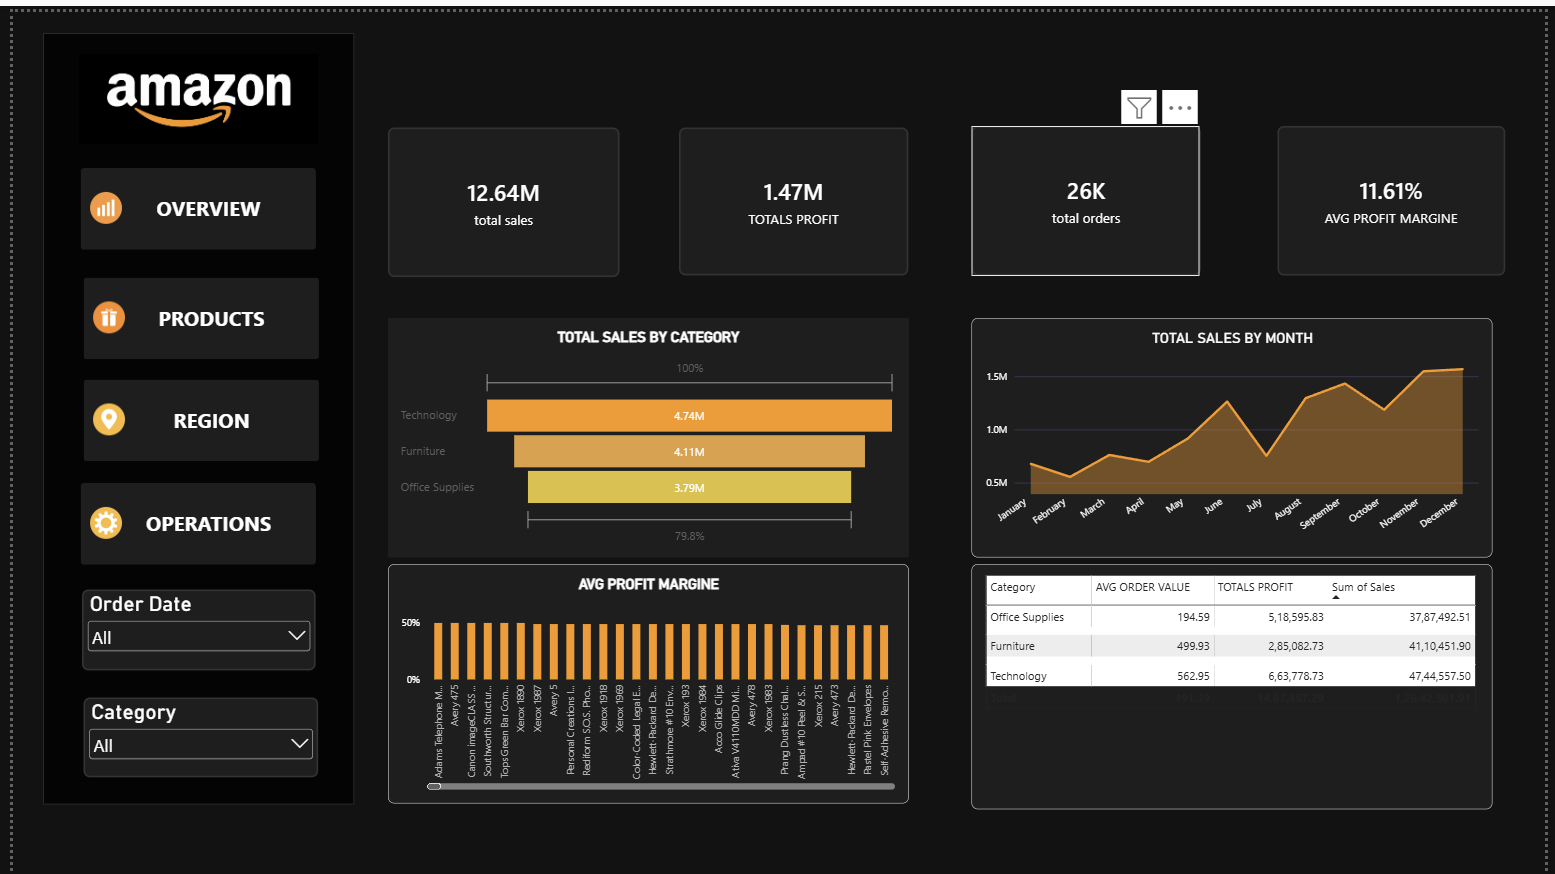

What the dashboard file says about the page in this screenshot:
{"tool":"powerbi","page":{"name":"PRODUCTS","canvas":[1920,1080],"ordinal":1},"visuals":[{"type":"card","fields":{"Values":["Orders.total sales"]},"box":[470,145,290,187.5],"z":0},{"type":"card","fields":{"Values":["Orders.total orders"]},"box":[1200,142.5,287.5,187.5],"z":1000},{"type":"card","fields":{"Values":["Orders.TOTALS PROFIT"]},"box":[835,145,287.5,185],"z":2000},{"type":"card","fields":{"Values":["Orders.AVG PROFIT MARGINE"]},"box":[1585,142.5,285,187.5],"z":3000},{"type":"funnel","title":"TOTAL SALES BY CATEGORY","fields":{"Category":["Orders.Category"],"Y":["Orders.total sales"]},"box":[470,382.5,652.5,300],"z":4000},{"type":"lineChart","title":"TOTAL SALES BY MONTH","fields":{"Category":["Orders.Order Date.Variation.Date Hierarchy.Month"],"Y":["Orders.total sales"]},"box":[1200,382.5,652.5,300],"z":5000},{"type":"lineClusteredColumnComboChart","title":"AVG PROFIT MARGINE","fields":{"Category":["Orders.Product Name"],"Y":["Orders.AVG PROFIT MARGINE"]},"box":[470,692.5,652.5,300],"z":6000},{"type":"tableEx","fields":{"Values":["Orders.Category","Orders.AVG ORDER VALUE","Orders.TOTALS PROFIT","Sum(Orders.Sales)"]},"box":[1200,692.5,652.5,307.5],"z":7000},{"type":"textbox","box":[5,100,290,188],"z":8000},{"type":"shape","box":[36.7,26.7,390,966.7],"z":9000},{"type":"actionButton","box":[85,195,295,102.5],"z":10000},{"type":"actionButton","box":[87.5,332.5,295,102.5],"z":11000},{"type":"actionButton","box":[87.5,460,295,102.5],"z":12000},{"type":"actionButton","box":[85,590,295,102.5],"z":13000},{"type":"slicer","fields":{"Values":["Orders.Order Date"]},"box":[87.1,724.3,292.9,101.4],"z":14000},{"type":"slicer","fields":{"Values":["Orders.Category"]},"box":[88.6,858.6,294.3,100],"z":15000},{"type":"image","box":[82.5,0,300,217.5],"z":16000}]}

Visuals, with their boxes in screenshot pixels (x1, y1, x2, y2), scaled from the page's 1920x1080 canvas onto the 1555x874 screenshot:
card - Orders.total sales: locate(381, 117, 616, 269)
card - Orders.total orders: locate(972, 115, 1205, 267)
card - Orders.TOTALS PROFIT: locate(676, 117, 909, 267)
card - Orders.AVG PROFIT MARGINE: locate(1284, 115, 1515, 267)
"TOTAL SALES BY CATEGORY" funnel: locate(381, 310, 909, 552)
"TOTAL SALES BY MONTH" lineChart: locate(972, 310, 1500, 552)
"AVG PROFIT MARGINE" lineClusteredColumnComboChart: locate(381, 560, 909, 803)
tableEx - Orders.Category x Orders.AVG ORDER VALUE: locate(972, 560, 1500, 809)
textbox: locate(4, 81, 239, 233)
shape: locate(30, 22, 346, 804)
actionButton: locate(69, 158, 308, 241)
actionButton: locate(71, 269, 310, 352)
actionButton: locate(71, 372, 310, 455)
actionButton: locate(69, 477, 308, 560)
slicer - Orders.Order Date: locate(71, 586, 308, 668)
slicer - Orders.Category: locate(72, 695, 310, 776)
image: locate(67, 0, 310, 176)
